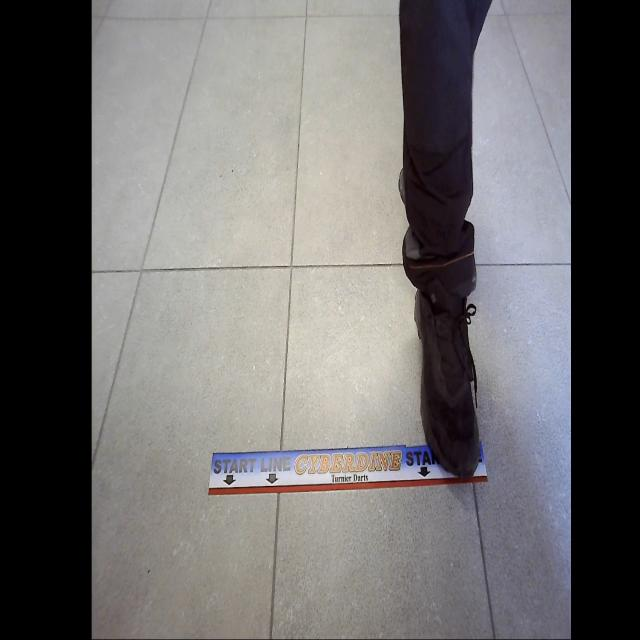foot: (412, 257, 482, 481)
